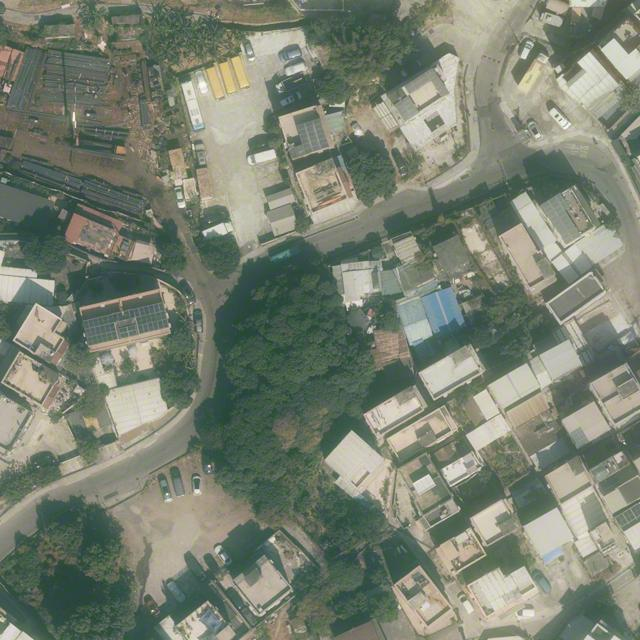panel: (82, 302, 165, 330), (540, 196, 581, 246), (297, 118, 330, 153), (84, 322, 118, 346), (136, 311, 170, 334), (614, 508, 636, 528), (555, 193, 570, 210), (119, 325, 137, 339), (295, 145, 306, 156)
